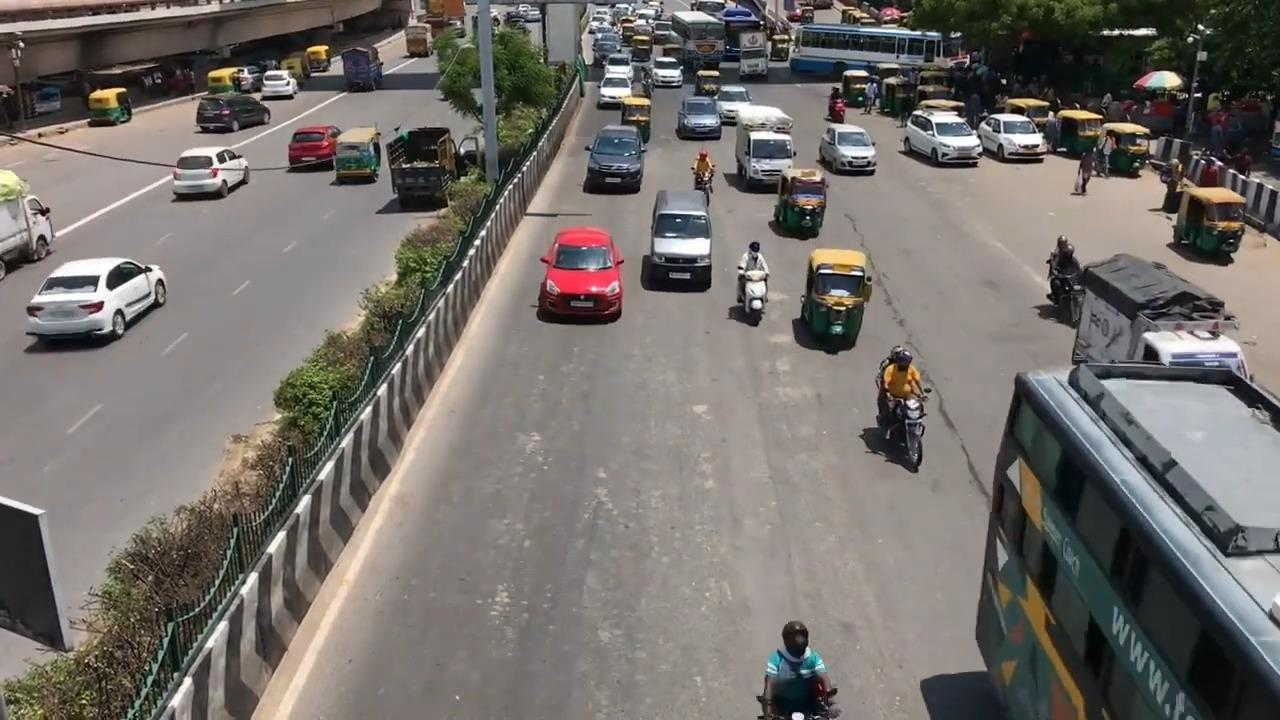Auto: (799, 248, 872, 346), (1171, 184, 1247, 256), (773, 166, 828, 235)
Bike: (755, 605, 840, 719), (876, 341, 931, 470), (733, 235, 769, 322), (1045, 254, 1082, 308), (690, 145, 717, 206)
Bus: (973, 360, 1279, 719), (788, 22, 943, 78)
Truck: (384, 124, 462, 207), (341, 45, 383, 92)
